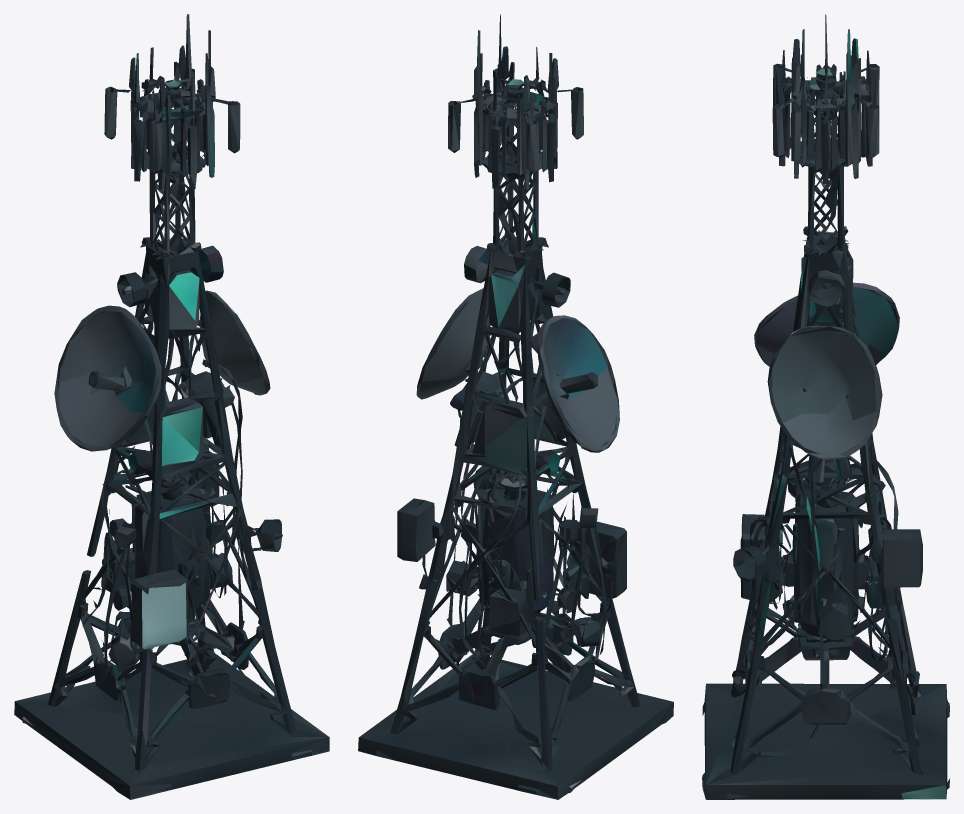
File: relay-tower.glb
3 views of the same model, side by side, from view 1: azimuth 30°, elevation 25°; view 2: azimuth 150°, elevation 25°; view 3: azimuth 270°, elevation 25° (orthographic). The views are drawn at different scales.
Parts seen in each view (by area): view 1: mesh_node; view 2: mesh_node; view 3: mesh_node.
Part boxes in pixels (<box>): mesh_node: <box>14,14,329,799</box>; mesh_node: <box>358,14,673,799</box>; mesh_node: <box>702,14,949,799</box>.
Bounding box in the file's own units: 0.5814 × 1.9 × 0.5823.
1 material, 1 textured.
